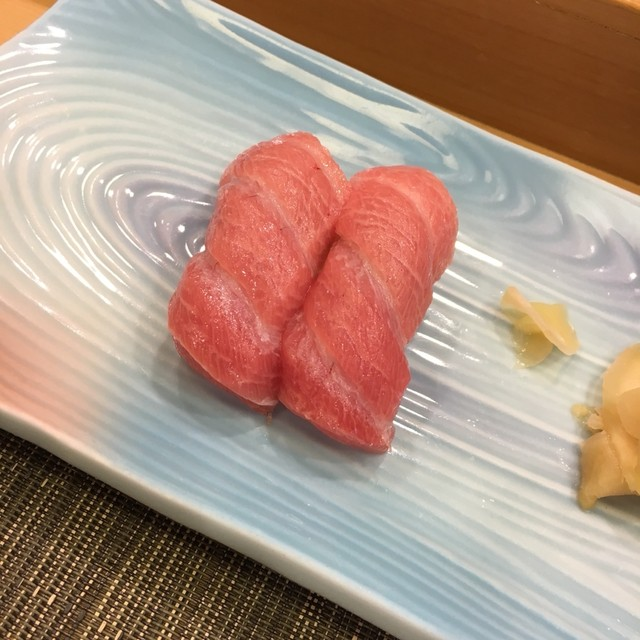medium_fatty_tuna: (285, 164, 459, 460), (167, 130, 345, 407)
